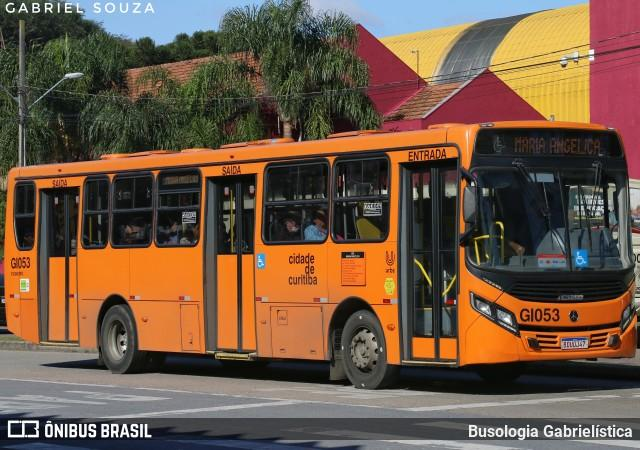MARIA ANGELICA: (509, 131, 608, 162)
